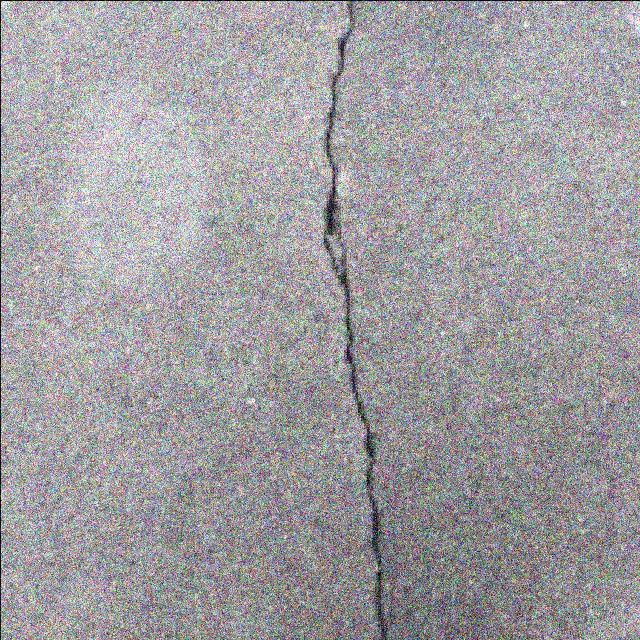SurfaceCrack: (272, 0, 422, 640)
